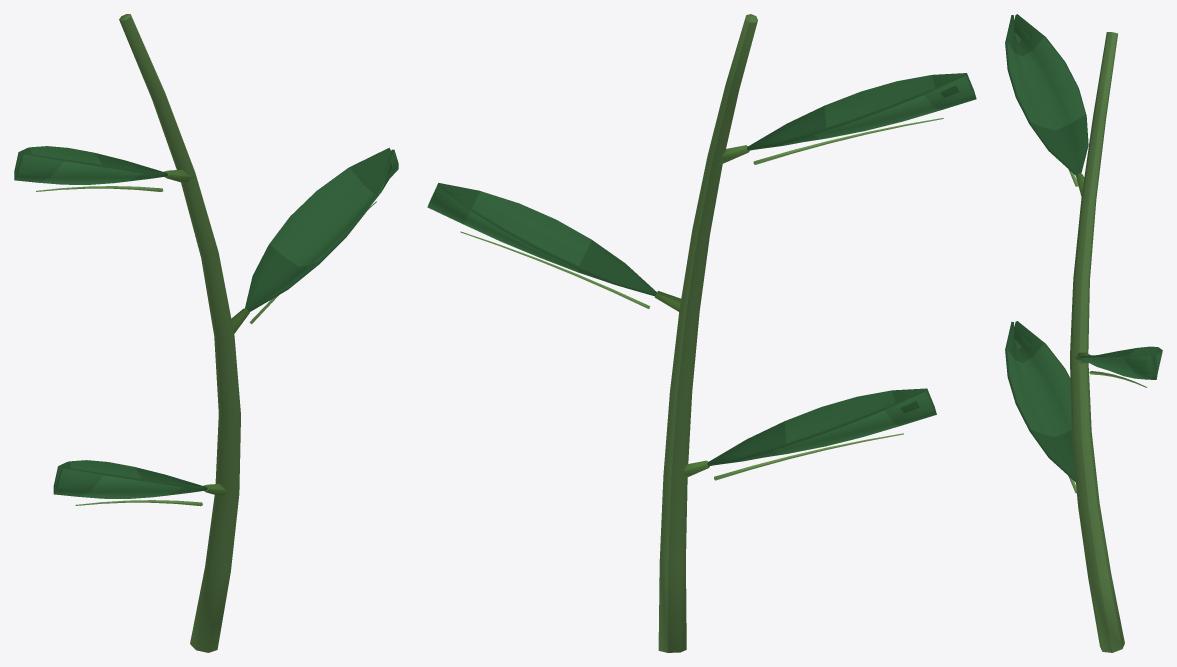
Rendered from garden-rose-bloom-stem-0.glb.
The picture shows the model from 3 angles, left to right: view 1: azimuth 30°, elevation 25°; view 2: azimuth 150°, elevation 25°; view 3: azimuth 270°, elevation 25°; orthographic projection. The views are drawn at different scales.
Visible parts, largest first — view 1: rose-bloom-stem-0; view 2: rose-bloom-stem-0; view 3: rose-bloom-stem-0.
Boxes of the visible parts, x1=… form: rose-bloom-stem-0: x1=14, y1=14, x2=398, y2=652; rose-bloom-stem-0: x1=427, y1=14, x2=976, y2=652; rose-bloom-stem-0: x1=1005, y1=14, x2=1162, y2=652.
Bounding box in the file's own units: 0.2593 × 0.3467 × 0.0851.
